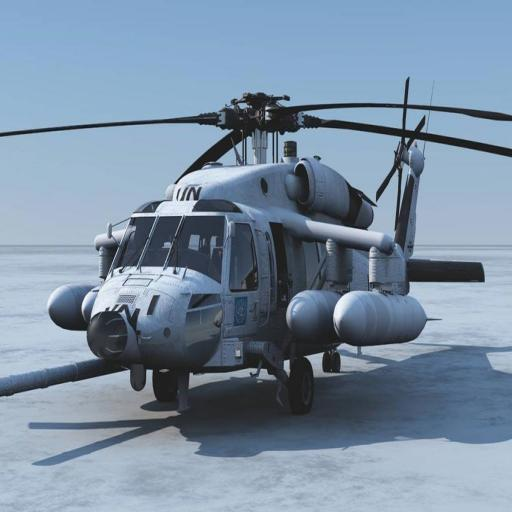helicopter: (38, 70, 495, 431)
